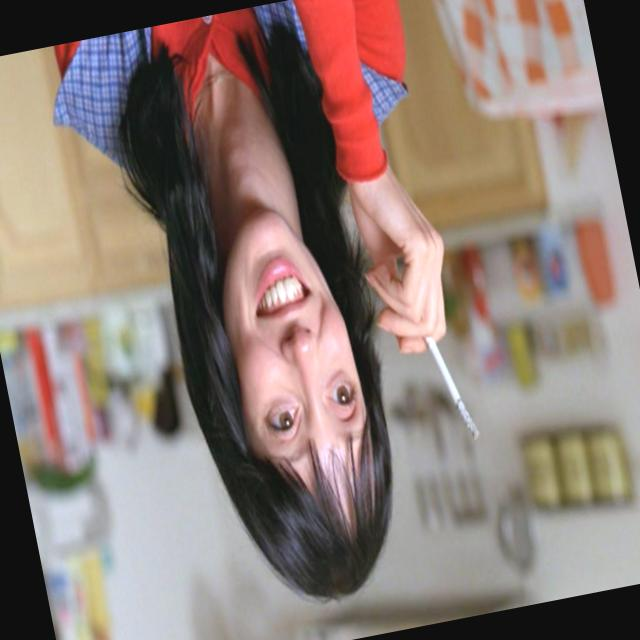cigarette: (390, 264, 501, 456)
